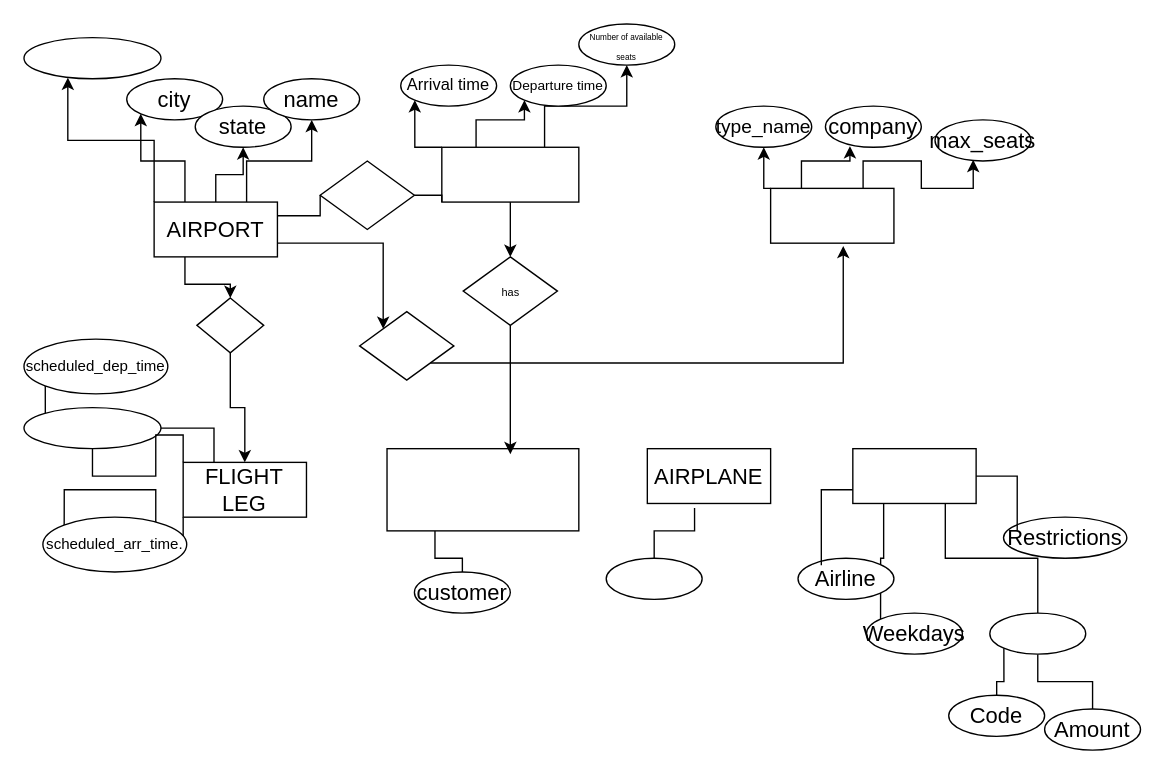
Image size: 1165x774. Some labels were removed from this diagram. Each missing label, with the box of its shape:
AIRPLANE TYPE: (769, 187, 894, 243)
airplane_id: (605, 557, 702, 599)
airport_code.: (23, 36, 161, 79)
allow landing: (358, 310, 454, 380)
departs and arrives: (319, 160, 414, 229)
fares: (988, 612, 1086, 654)
FLIGHT & FARE: (851, 447, 976, 503)
LEG INSTANCE: (440, 146, 579, 202)
leg_no.: (23, 406, 161, 449)
SEAT / RESERVATION: (386, 447, 579, 531)
serve: (195, 297, 264, 353)
